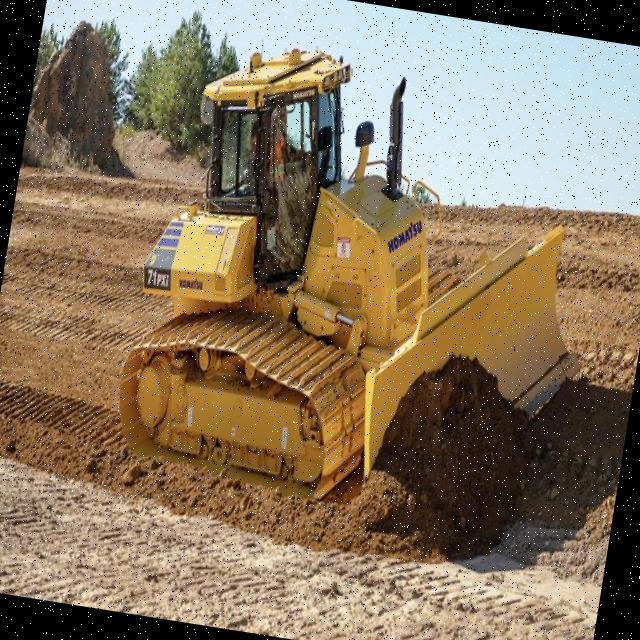Bulldozer: (85, 4, 640, 578)
